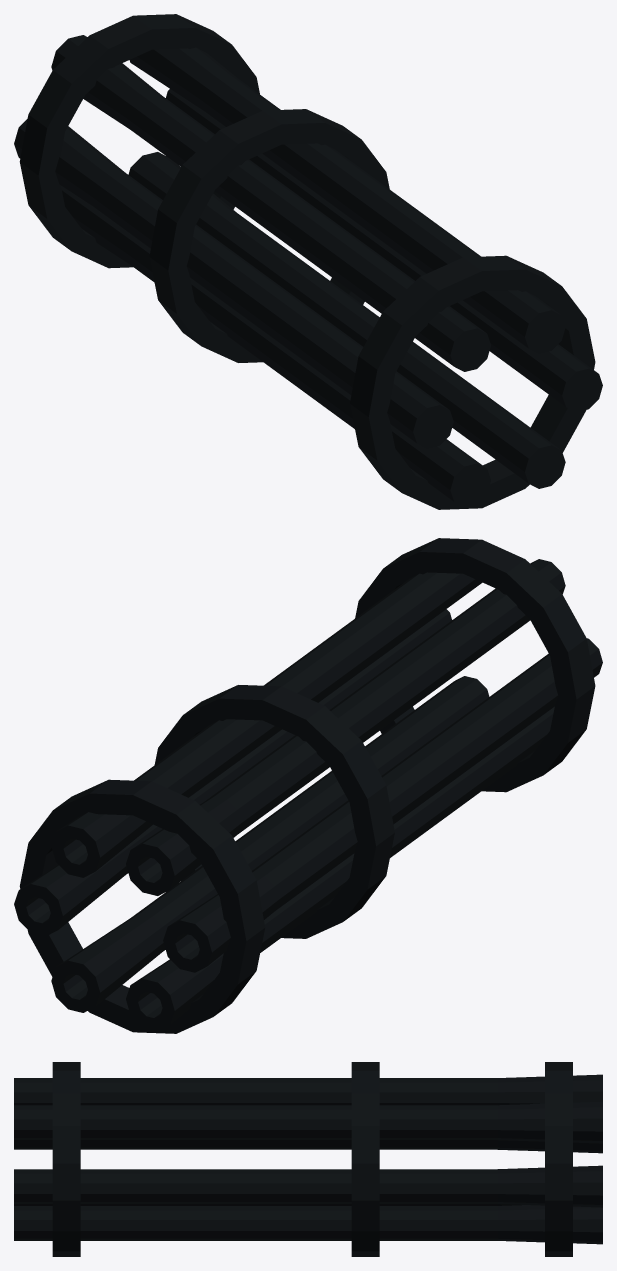
File: Minigun762__Rotor.obj
3 views of the same model, one above another, from view 1: azimuth 30°, elevation 25°; view 2: azimuth 150°, elevation 25°; view 3: azimuth 270°, elevation 25° (orthographic). The views are drawn at different scales.
Parts seen in each view (by area): view 1: Minigun762_spin; view 2: Minigun762_spin; view 3: Minigun762_spin.
Part boxes in pixels (<box>): Minigun762_spin: <box>14,14,602,509</box>; Minigun762_spin: <box>14,538,602,1033</box>; Minigun762_spin: <box>14,1062,602,1256</box>.
Size of the model in its own units: 0.3025 by 0.3025 by 0.9129.
